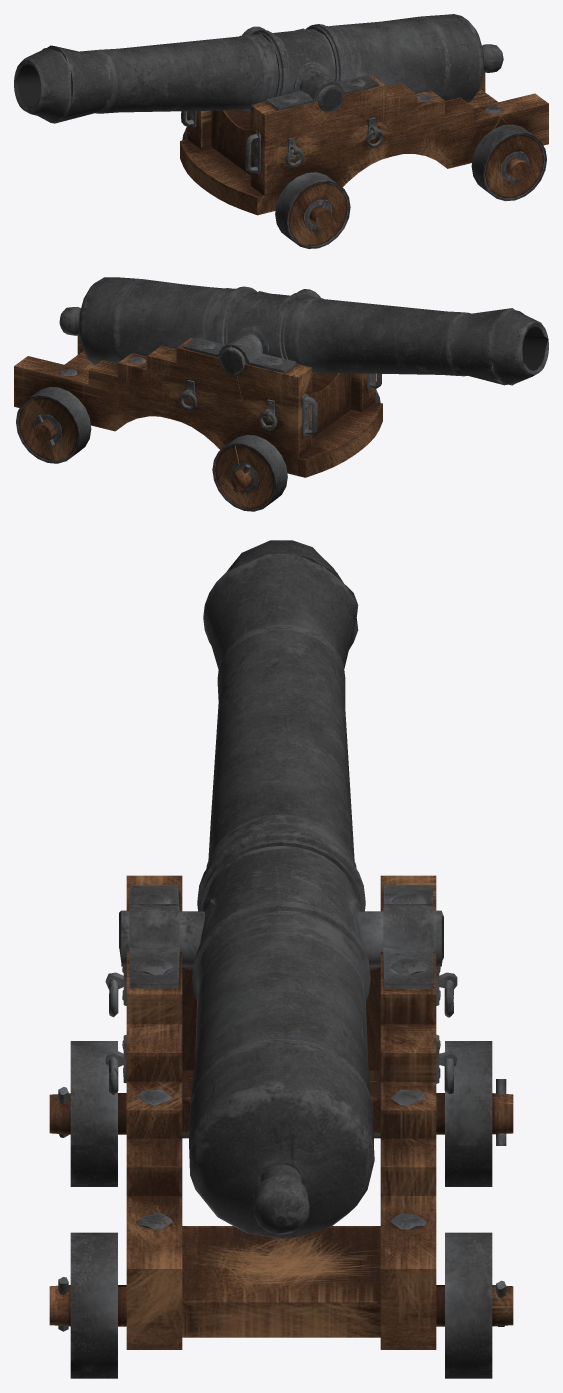
Rendered from 035shipgun_c.FBX.
3 views of the same model, one above another, from view 1: azimuth 30°, elevation 25°; view 2: azimuth 150°, elevation 25°; view 3: azimuth 270°, elevation 25° (orthographic). The views are drawn at different scales.
Visible parts, largest first — view 1: 035c_2, 035c_1, 035c_3, 035c_4, 035c_5; view 2: 035c_2, 035c_1, 035c_3, 035c_5, 035c_4; view 3: 035c_5, 035c_3, 035c_2, 035c_1, 035c_4.
Boxes of the visible parts, x1,y1,x2,y2 form: 035c_2: (180,26,360,248); 035c_1: (14,39,221,123); 035c_3: (256,21,417,171); 035c_4: (382,14,476,168); 035c_5: (447,14,548,201); 035c_2: (202,290,382,511); 035c_1: (334,302,548,385); 035c_3: (138,284,311,433); 035c_5: (14,277,115,463); 035c_4: (86,277,181,431); 035c_5: (49,1074,513,1378); 035c_3: (105,872,457,1095); 035c_2: (49,767,513,1186); 035c_1: (203,540,358,827); 035c_4: (126,990,436,1238).
Bounding box in the file's own units: 40.78 × 16.84 × 17.
